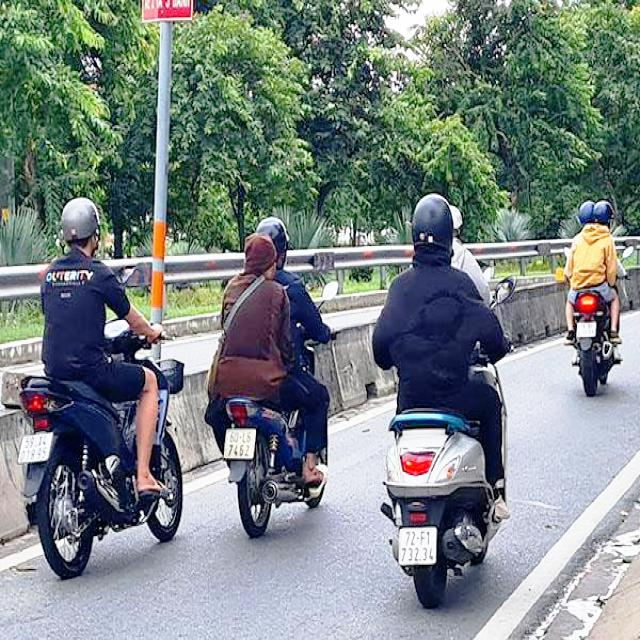license_plate: (399, 528, 438, 566), (223, 429, 258, 461), (20, 434, 54, 462)
